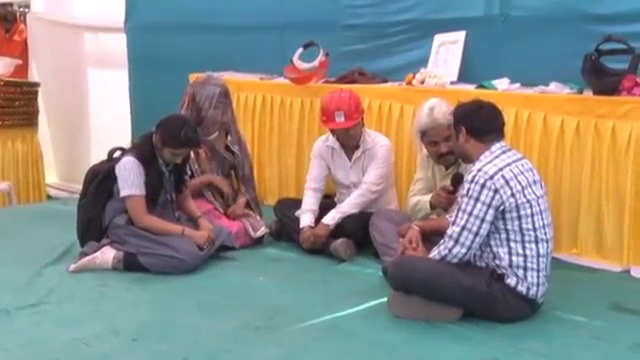helmet: (314, 92, 369, 132), (0, 56, 23, 83)
helmet_off: (453, 99, 508, 169), (183, 77, 236, 144), (143, 112, 199, 171), (411, 99, 460, 166), (0, 1, 23, 27)
helmet_on: (313, 90, 368, 153)
person: (380, 101, 553, 323), (69, 111, 222, 280), (270, 82, 403, 264), (366, 96, 473, 266), (176, 72, 268, 254), (0, 5, 30, 83)
